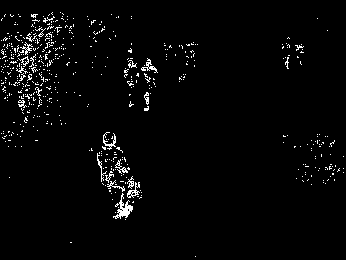person: (93, 129, 142, 225), (122, 56, 142, 110), (144, 58, 161, 115)
